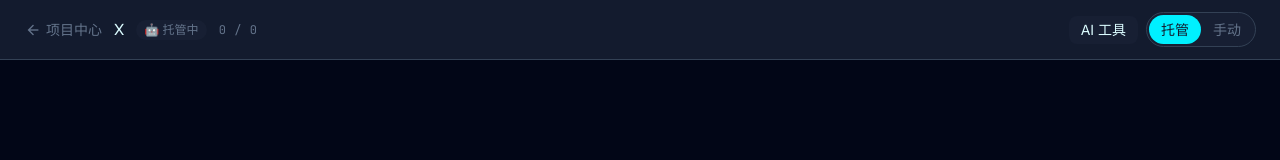
Test: WorkspaceTopBar › AI-tools dropdown opens on click and exposes 提示词广场 menu item
Check: the text "0 / 0" is shown, box [219,22,258,38]
Click the button with test id "topbar-ai-tools" at {"x": 1103, "y": 30}, box [1069,16,1138,44]
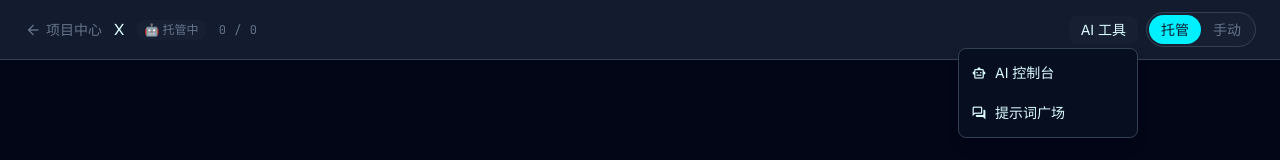
Check: the menu with test id "topbar-ai-tools-dropdown" is shown, box [958,48,1138,138]
Check: the menu item with test id "topbar-ai-tools-plaza" reads "提示词广场"
Click the menu item with test id "topbar-ai-tools-plaza" at {"x": 1048, "y": 112}, box [959,92,1137,132]
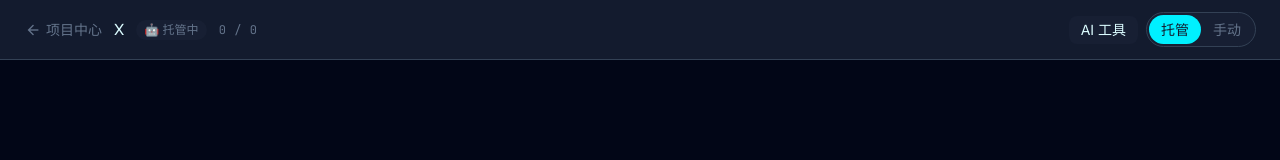
Check: the menu with test id "topbar-ai-tools-dropdown" is gone
